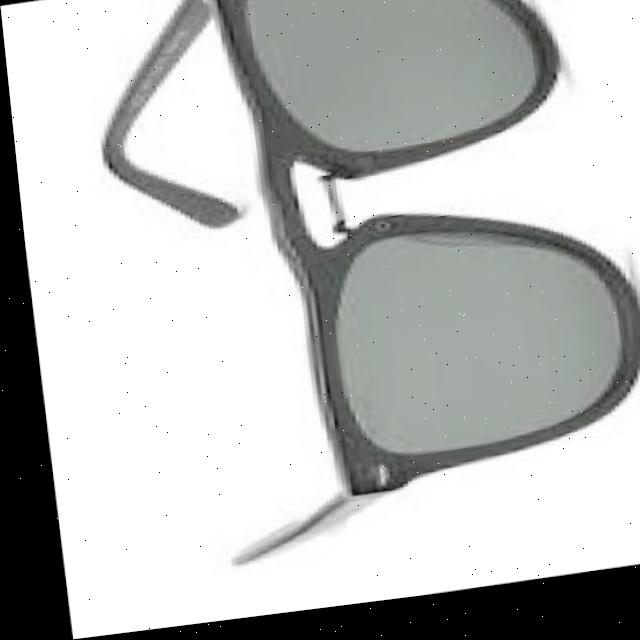gozluk: (192, 0, 640, 531)
